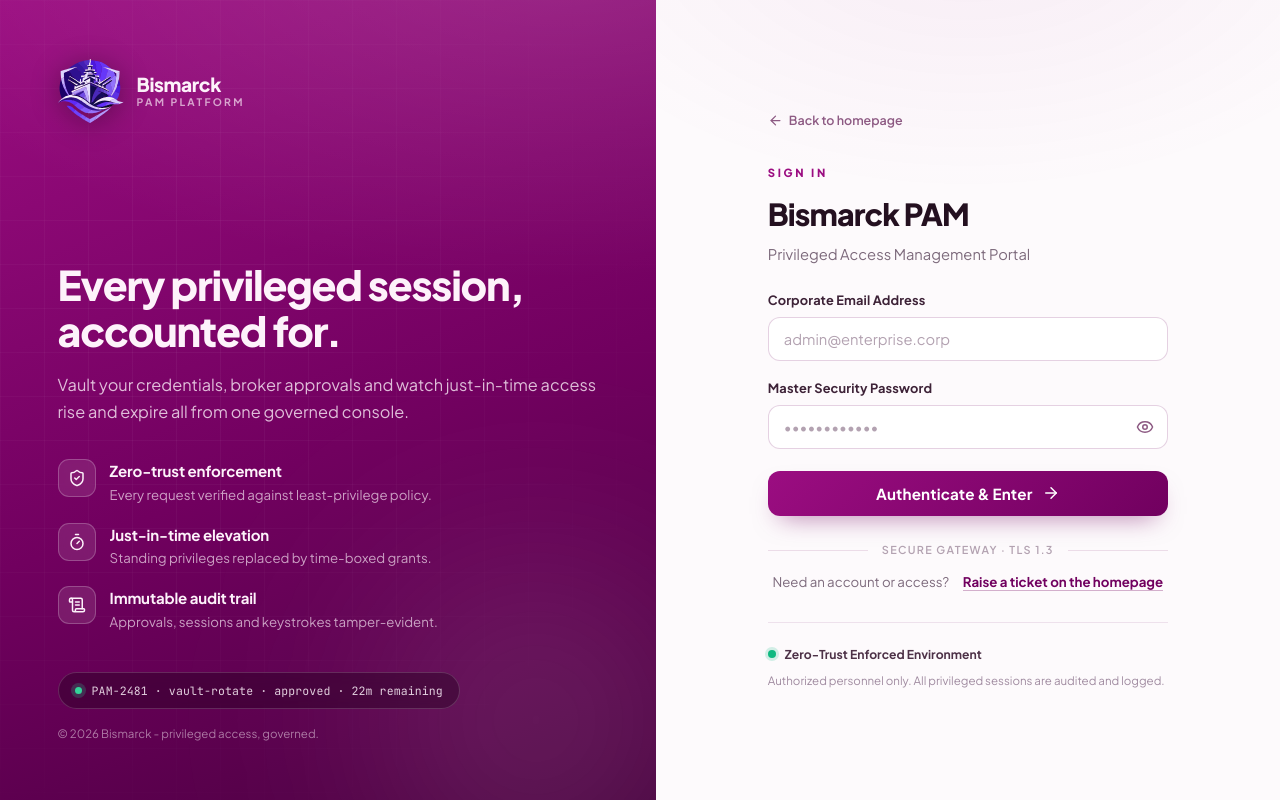
Test: Login Component › shows inline error message "Invalid email or password" on failed login
Type "wrong@user.corp" into the field labelled "Corporate Email Address".
click(968, 339); type("wrong@user.corp")  # box [768,317,1168,361]
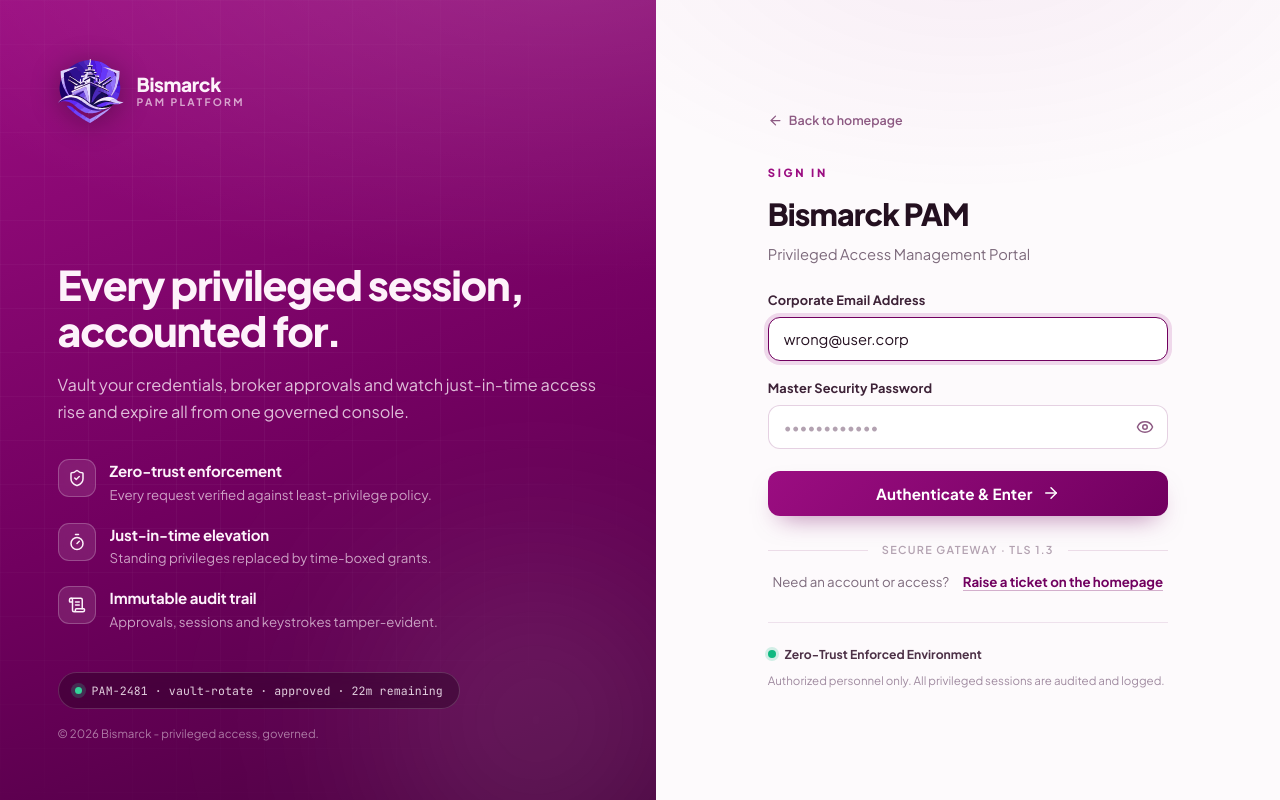
Type "WrongPassword123" into the password field labelled "Master Security Password".
click(968, 427); type("WrongPassword123")  # box [768,405,1168,449]
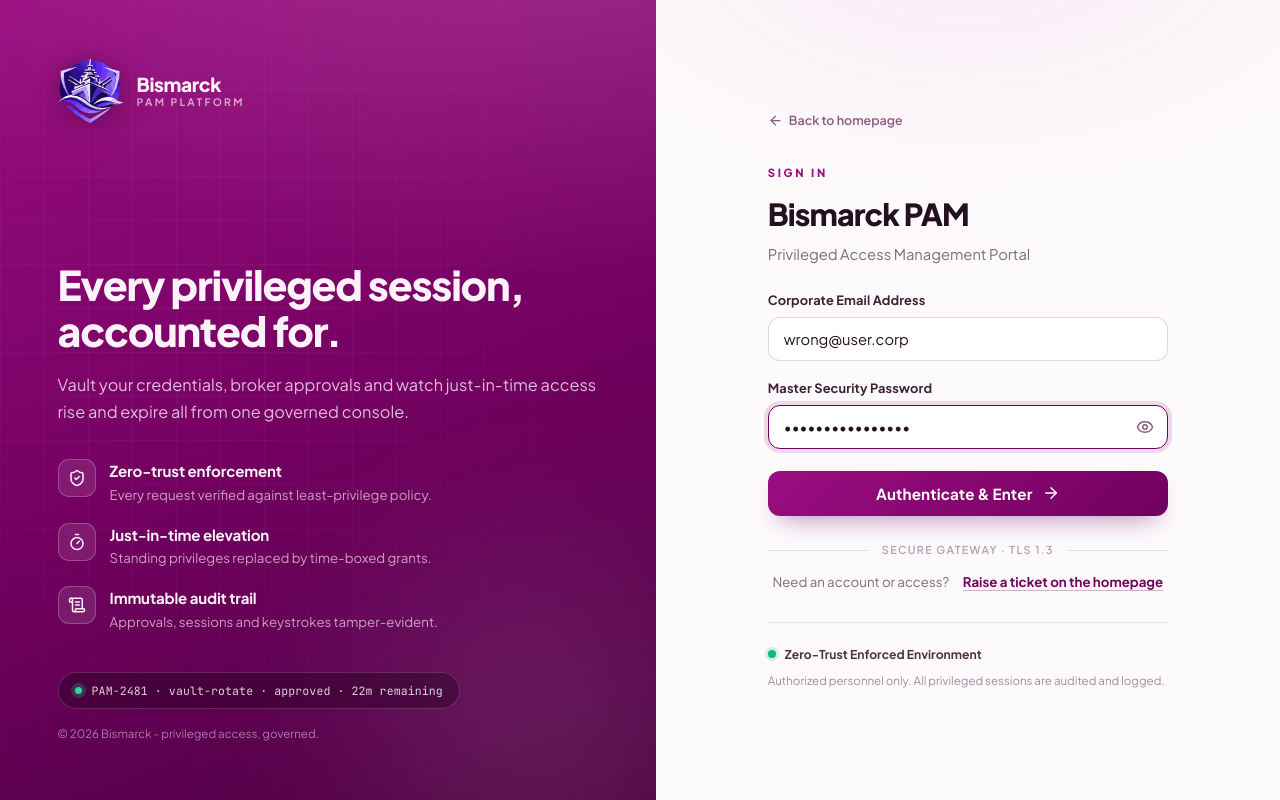
Click the button "Authenticate & Enter".
click(968, 494)  # box [768,471,1168,516]
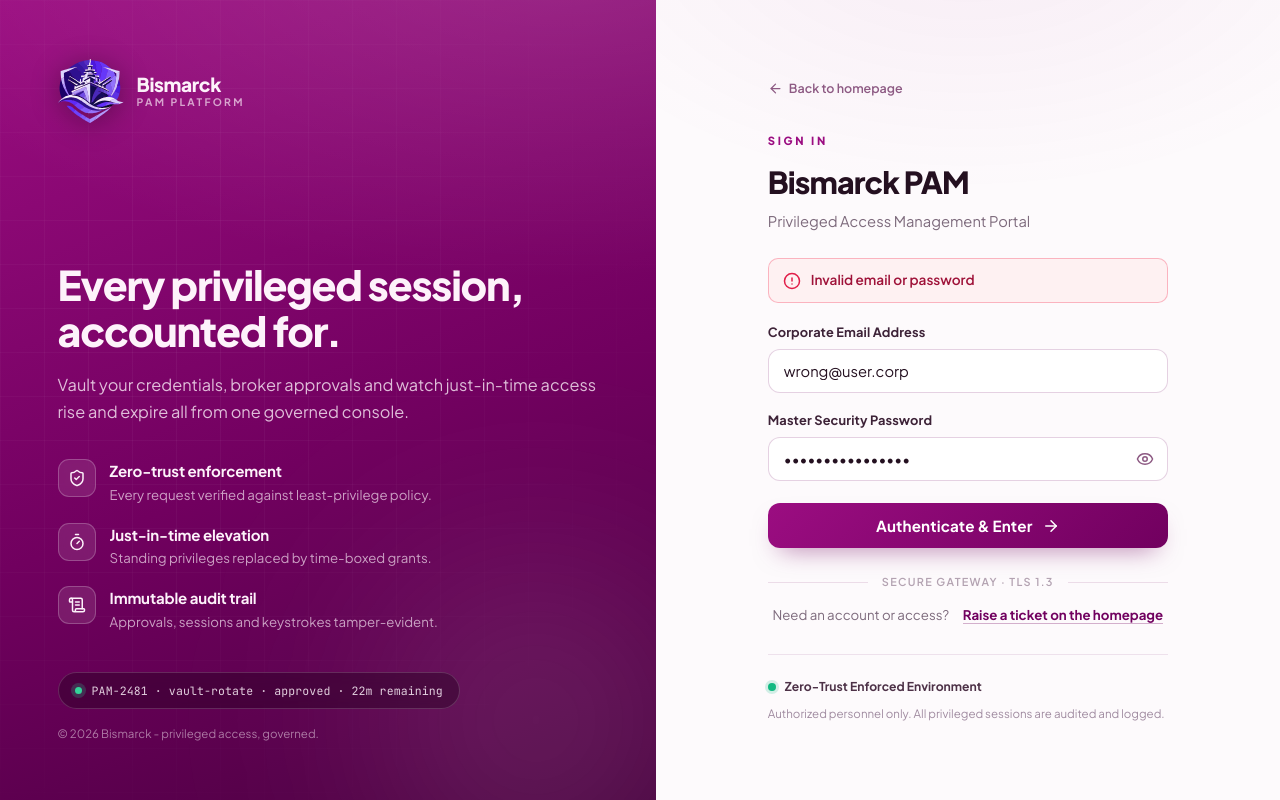
Now the message reads "Invalid email or password", box [811,271,975,288]
